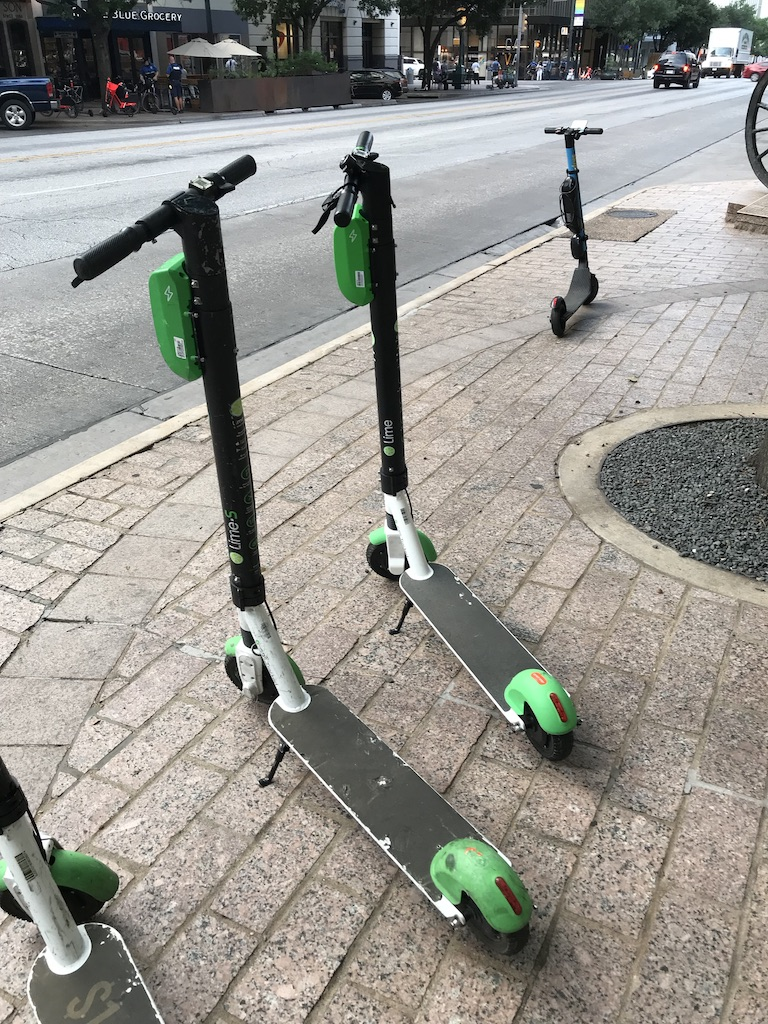scooter: (69, 153, 534, 959), (314, 133, 578, 763), (5, 760, 158, 1017), (544, 118, 601, 339)
